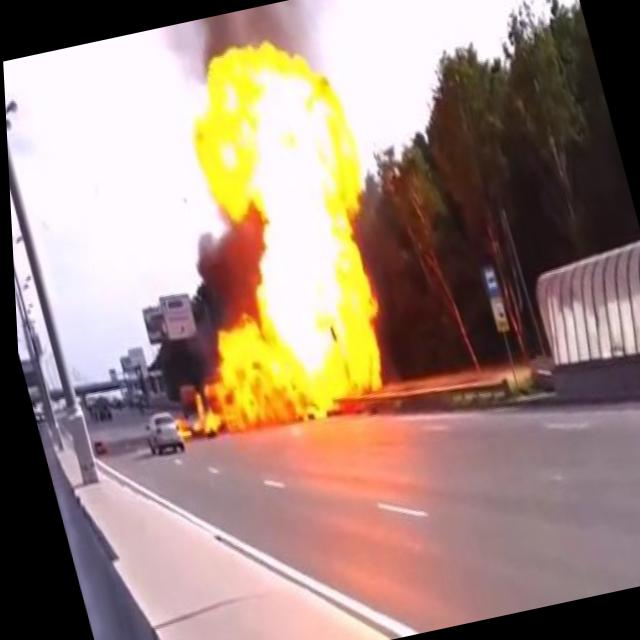fire: (92, 12, 433, 444), (168, 412, 189, 446)
